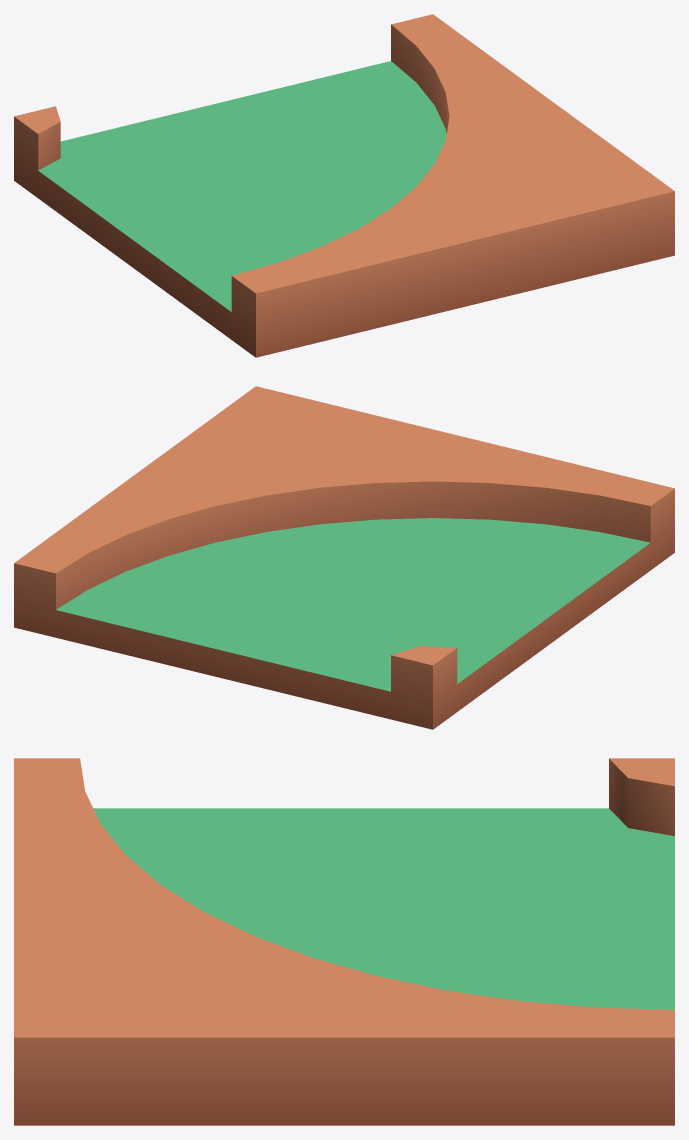
The model's file is round-corner-b.glb.
3 views of the same model, one above another, from view 1: azimuth 30°, elevation 25°; view 2: azimuth 150°, elevation 25°; view 3: azimuth 270°, elevation 25° (orthographic). The views are drawn at different scales.
Visible parts, largest first — view 1: round-corner-b; view 2: round-corner-b; view 3: round-corner-b.
Boxes of the visible parts, x1,y1,x2,y2 form: round-corner-b: (14,14,674,357); round-corner-b: (14,386,674,729); round-corner-b: (14,758,674,1125).
Size of the model in its own units: 0.9999 by 0.1466 by 0.9999.
Materials: 1 (1 with a texture image).
